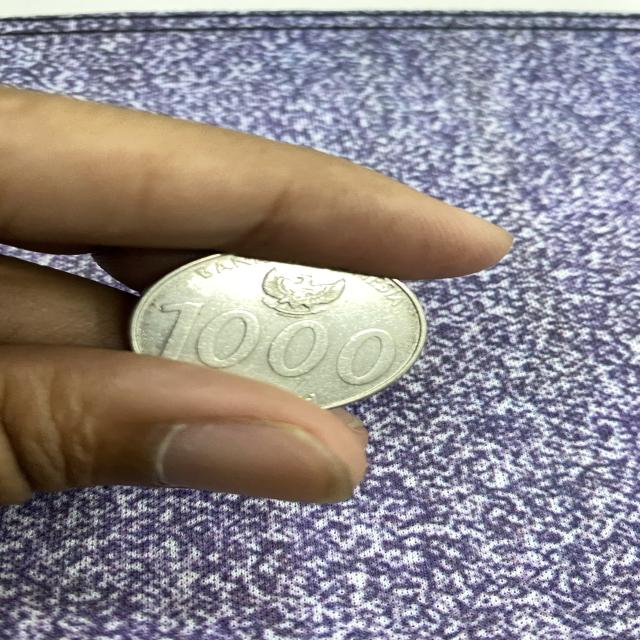1000-angklung: (123, 232, 440, 426)
